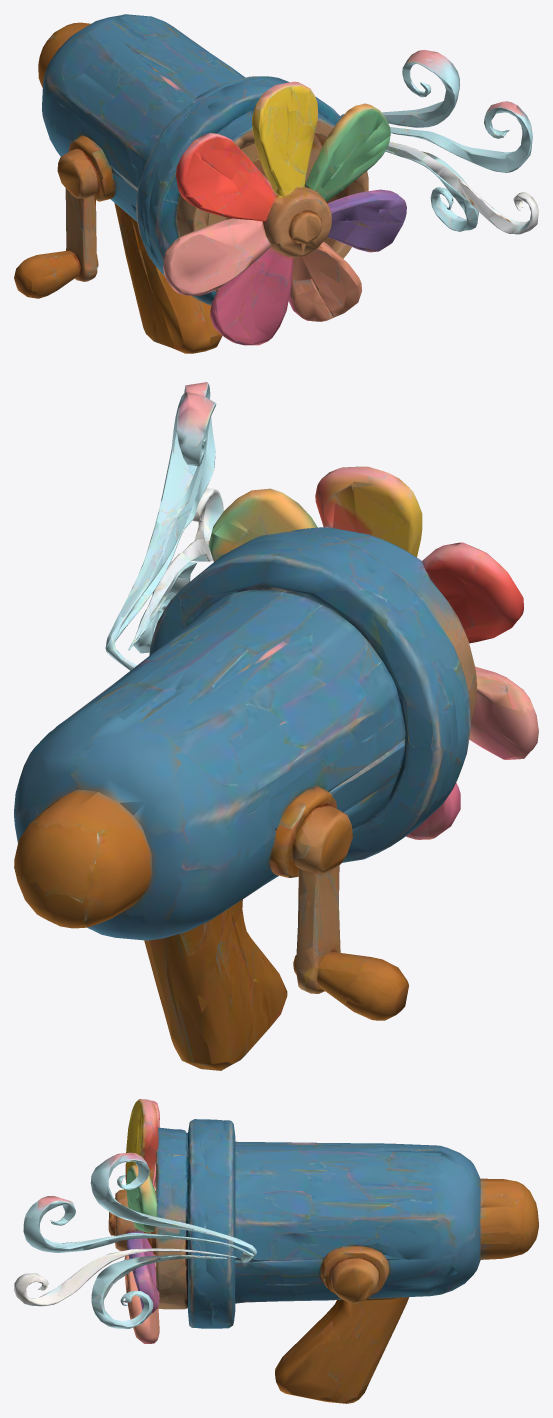
File: weapon-gust.glb
3 renders of one model, top to bottom at view 1: azimuth 30°, elevation 25°; view 2: azimuth 150°, elevation 25°; view 3: azimuth 270°, elevation 25°, orthographic. The views are drawn at different scales.
Visible parts, largest first — view 1: Mesh_0; view 2: Mesh_0; view 3: Mesh_0.
Boxes of the visible parts, left/top/right/bottom form: Mesh_0: left=14, top=14, right=538, bottom=353; Mesh_0: left=14, top=382, right=538, bottom=1070; Mesh_0: left=14, top=1099, right=538, bottom=1403.
Bounding box in the file's own units: 1.24 × 1.22 × 1.9.
Materials: 1 (1 with a texture image).
